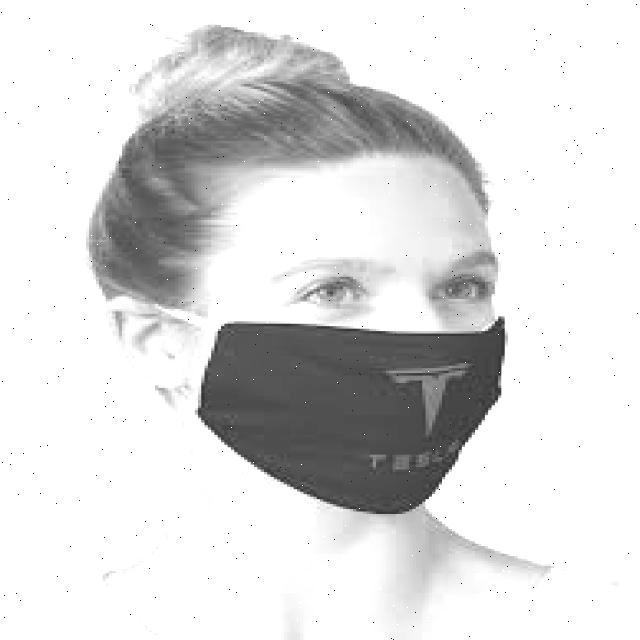fake: (196, 317, 512, 518)
real: (202, 158, 508, 528)
